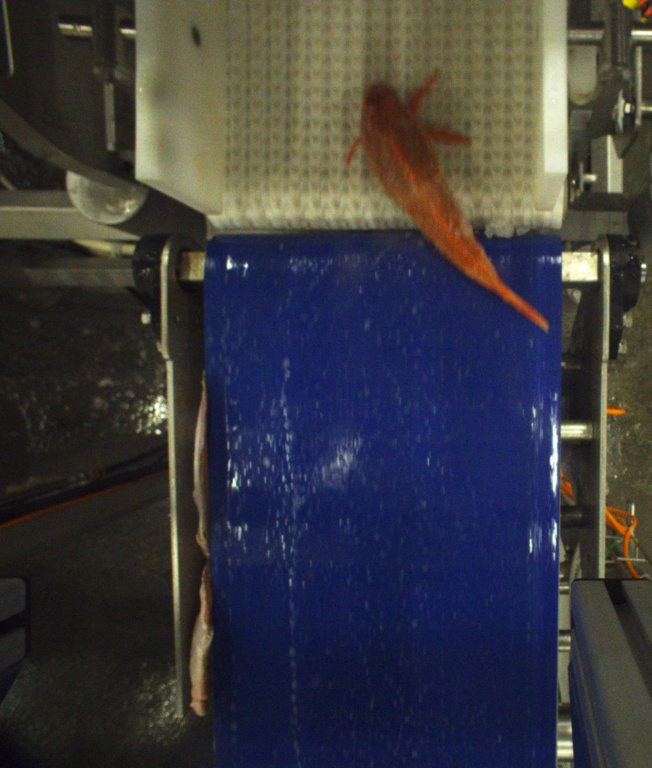GUU: (345, 71, 551, 329)
